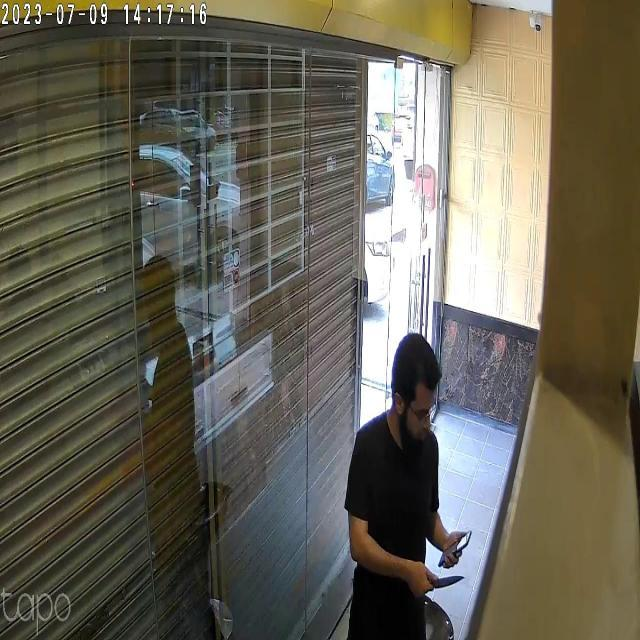Knife: (423, 565, 465, 601)
